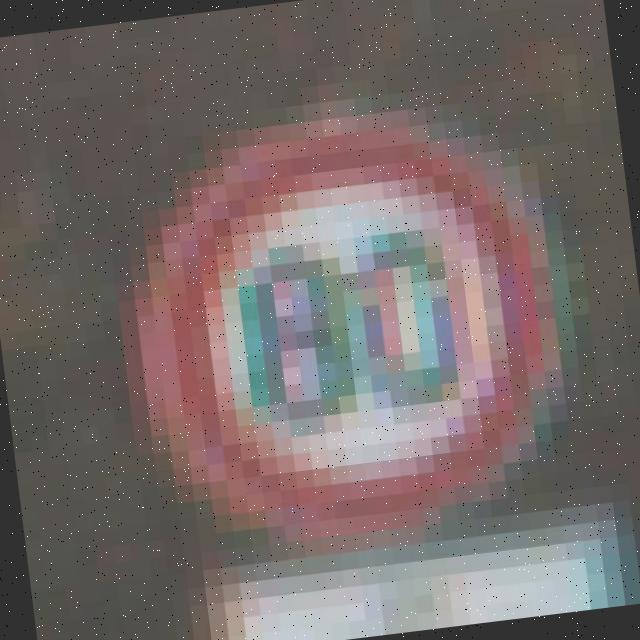Ograniczenie predkosci do 80: (122, 90, 584, 554)
